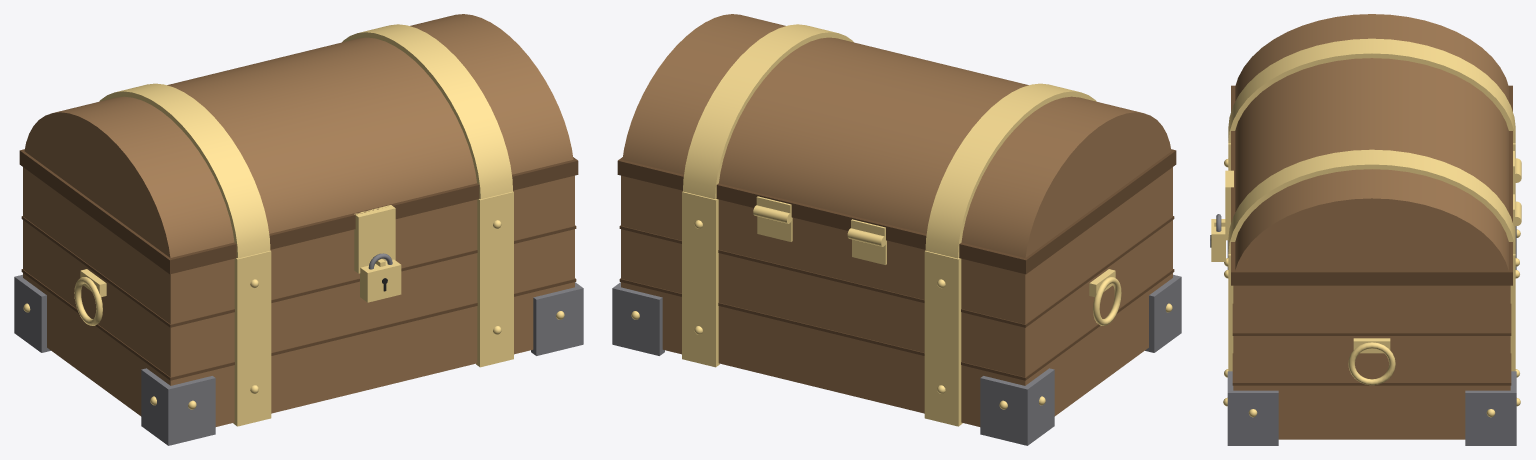
The model's file is chest.glb.
The picture shows the model from 3 angles, left to right: view 1: azimuth 30°, elevation 25°; view 2: azimuth 150°, elevation 25°; view 3: azimuth 270°, elevation 25°; orthographic projection. The views are drawn at different scales.
Visible parts, largest first — view 1: Chest_Lid, Chest_Body_Front, Chest_Body_Side_L, Chest_Lid_Rim, Chest_Gold_Strap_Lid_L, Chest_Gold_Strap_Lid_R, Chest_Gold_Strap_Body_L_Front, Chest_Gold_Strap_Body_R_Front, Chest_CornerGuard_Front_L_PlateY, Chest_CornerGuard_Front_R_PlateY, Chest_Lock_Hasp, Chest_CornerGuard_Back_L_PlateX (+7 smaller); view 2: Chest_Lid, Chest_Body_Back, Chest_Body_Side_L, Chest_Lid_Rim, Chest_Gold_Strap_Lid_L, Chest_Gold_Strap_Lid_R, Chest_Gold_Strap_Body_L_Back, Chest_Gold_Strap_Body_R_Back, Chest_CornerGuard_Back_L_PlateY, Chest_CornerGuard_Back_R_PlateY, Chest_CornerGuard_Front_L_PlateX, Chest_CornerGuard_Back_L_PlateX (+7 smaller); view 3: Chest_Lid, Chest_Body_Side_R, Chest_Gold_Strap_Lid_L, Chest_Gold_Strap_Lid_R, Chest_Lid_Rim, Chest_CornerGuard_Back_R_PlateX, Chest_CornerGuard_Front_R_PlateX, Chest_Body_Back, Chest_Body_Front, Chest_Plank_Seam_1_R, Chest_Handle_Ring_R, Chest_Plank_Seam_2_R (+7 smaller).
Part boxes in pixels (left/top/right/bottom): Chest_Lid: left=24, top=14, right=573, bottom=257; Chest_Body_Front: left=163, top=175, right=574, bottom=426; Chest_Body_Side_L: left=30, top=173, right=162, bottom=416; Chest_Lid_Rim: left=19, top=149, right=578, bottom=274; Chest_Gold_Strap_Lid_L: left=99, top=83, right=270, bottom=258; Chest_Gold_Strap_Lid_R: left=342, top=24, right=512, bottom=199; Chest_Gold_Strap_Body_L_Front: left=233, top=250, right=271, bottom=426; Chest_Gold_Strap_Body_R_Front: left=476, top=191, right=513, bottom=367; Chest_CornerGuard_Front_L_PlateY: left=163, top=376, right=215, bottom=445; Chest_CornerGuard_Front_R_PlateY: left=531, top=284, right=583, bottom=355; Chest_Lock_Hasp: left=354, top=205, right=395, bottom=273; Chest_CornerGuard_Back_L_PlateX: left=19, top=279, right=50, bottom=352; Chest_Lid: left=622, top=14, right=1171, bottom=257; Chest_Body_Back: left=621, top=175, right=1032, bottom=426; Chest_Body_Side_L: left=1033, top=173, right=1165, bottom=416; Chest_Lid_Rim: left=617, top=149, right=1176, bottom=274; Chest_Gold_Strap_Lid_L: left=925, top=83, right=1096, bottom=258; Chest_Gold_Strap_Lid_R: left=683, top=24, right=853, bottom=199; Chest_Gold_Strap_Body_L_Back: left=924, top=250, right=962, bottom=426; Chest_Gold_Strap_Body_R_Back: left=682, top=191, right=719, bottom=367; Chest_CornerGuard_Back_L_PlateY: left=980, top=376, right=1032, bottom=445; Chest_CornerGuard_Back_R_PlateY: left=612, top=284, right=664, bottom=355; Chest_CornerGuard_Front_L_PlateX: left=1145, top=279, right=1176, bottom=352; Chest_CornerGuard_Back_L_PlateX: left=1028, top=368, right=1054, bottom=441; Chest_Lid: left=1235, top=14, right=1508, bottom=271; Chest_Body_Side_R: left=1248, top=285, right=1495, bottom=439; Chest_Gold_Strap_Lid_L: left=1228, top=38, right=1515, bottom=143; Chest_Gold_Strap_Lid_R: left=1228, top=149, right=1515, bottom=254; Chest_Lid_Rim: left=1231, top=85, right=1512, bottom=285; Chest_CornerGuard_Back_R_PlateX: left=1465, top=390, right=1506, bottom=445; Chest_CornerGuard_Front_R_PlateX: left=1237, top=390, right=1278, bottom=445; Chest_Body_Back: left=1496, top=285, right=1510, bottom=390; Chest_Body_Front: left=1233, top=285, right=1247, bottom=390; Chest_Plank_Seam_1_R: left=1237, top=382, right=1506, bottom=385; Chest_Handle_Ring_R: left=1348, top=342, right=1395, bottom=385; Chest_Plank_Seam_2_R: left=1237, top=333, right=1506, bottom=335.
Size of the model in its own units: 0.633 by 0.377 by 0.4265.
